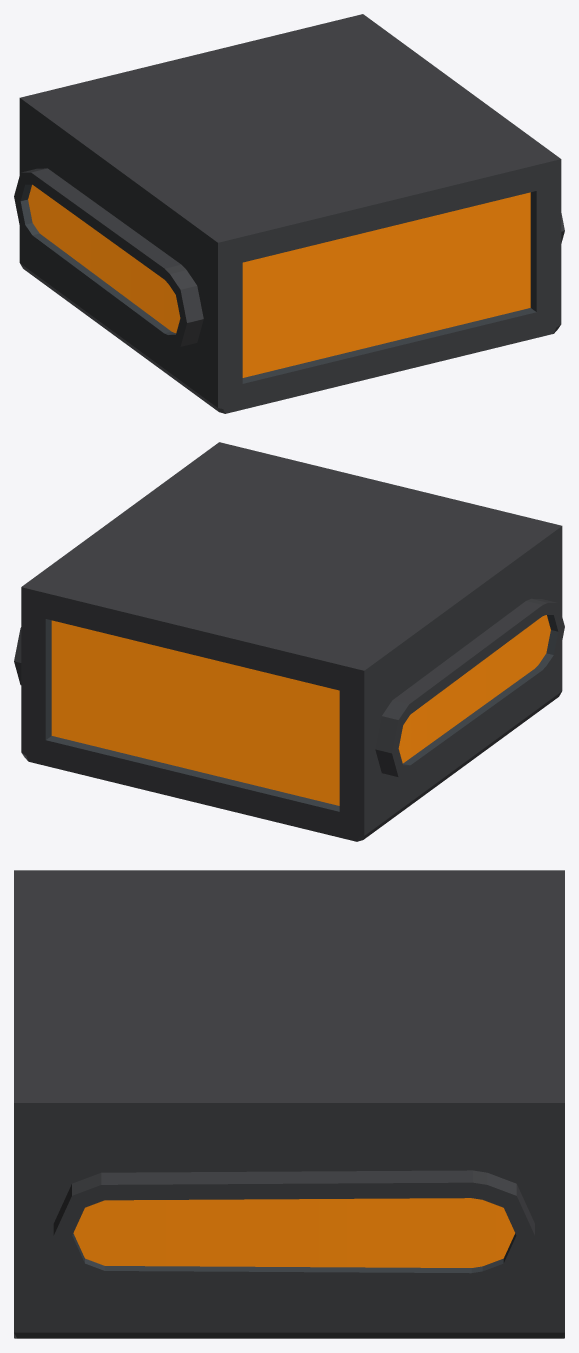
The model's file is LightCube_01.glb.
3 renders of one model, top to bottom at view 1: azimuth 30°, elevation 25°; view 2: azimuth 150°, elevation 25°; view 3: azimuth 270°, elevation 25°, orthographic. The views are drawn at different scales.
Visible parts, largest first — view 1: LightCube_01; view 2: LightCube_01; view 3: LightCube_01.
Boxes of the visible parts, x1=… form: LightCube_01: x1=14, y1=14, x2=564, y2=413; LightCube_01: x1=14, y1=442, x2=564, y2=841; LightCube_01: x1=14, y1=870, x2=564, y2=1338.
Size of what is drawn, in the model's own units: 0.8297 by 0.3626 by 0.7533.
Materials: 2 (2 with a texture image).
